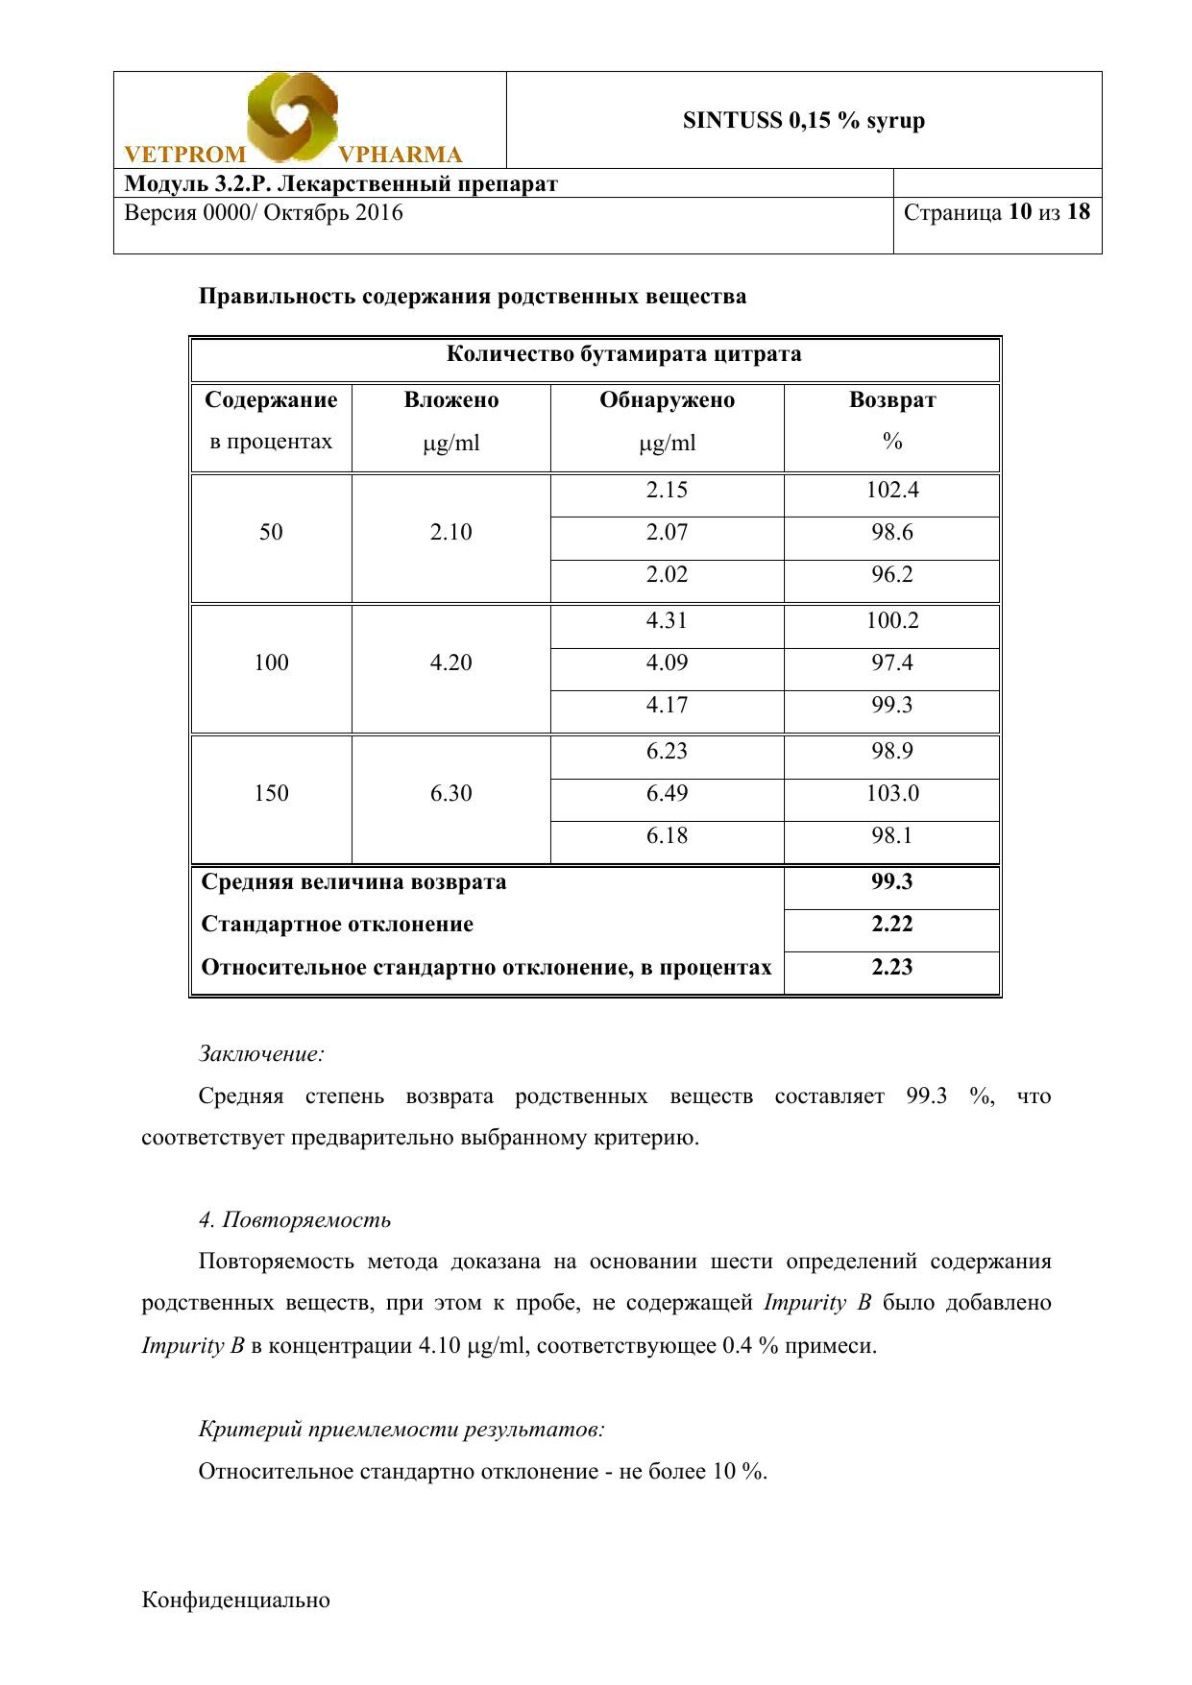merged_cells: (187, 333, 1004, 999), (112, 68, 1104, 255)
